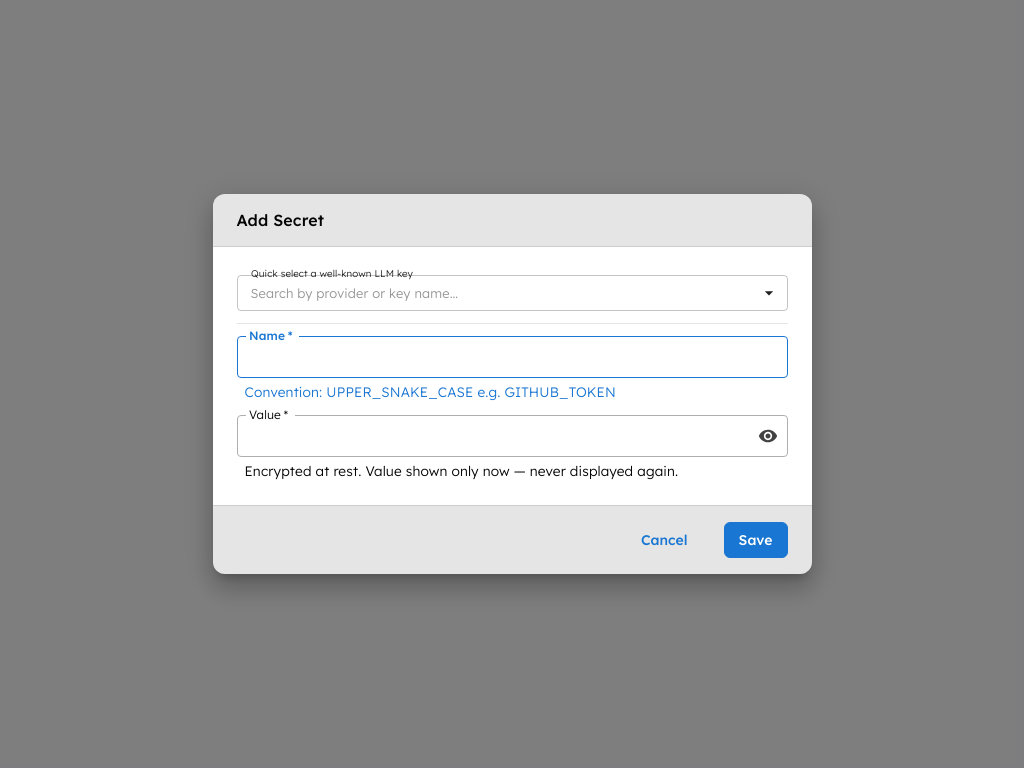
Test case: AddEditSecretDialog — add mode › rejects blank value
The image size is (1024, 768).
Step 1. Type "GITHUB_TOKEN" into the field labelled "Name *" → coordinates (512, 357), box [236,336,788,378]
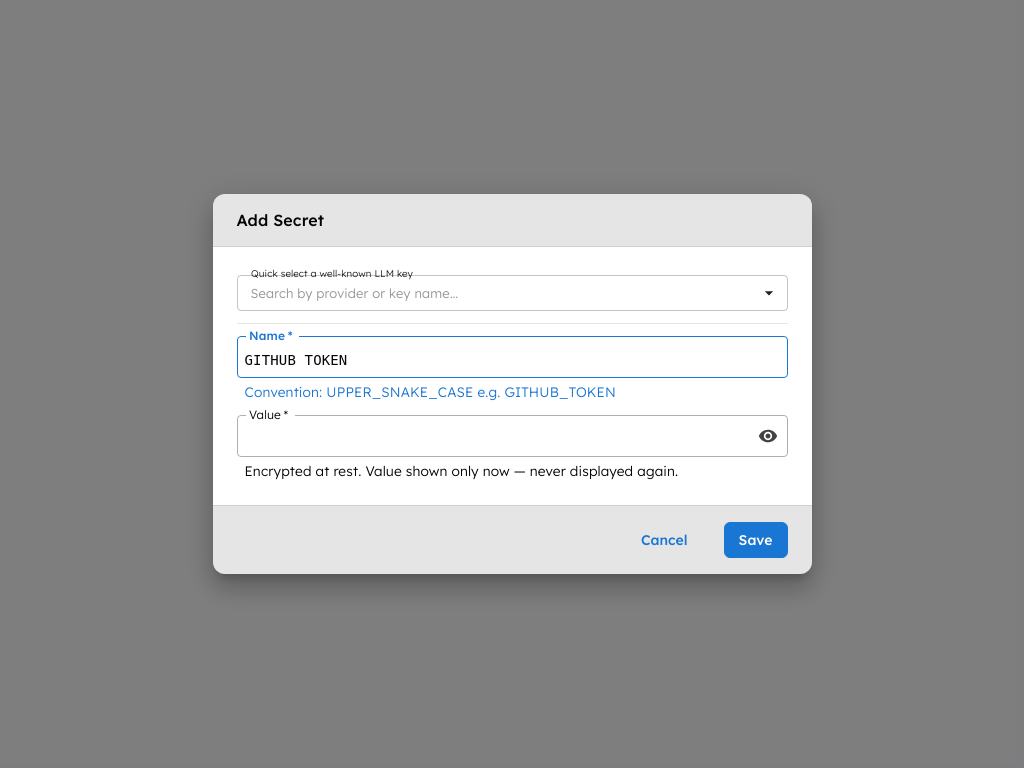
Step 2. Click the button "Save" → coordinates (756, 540), box [724,522,788,558]
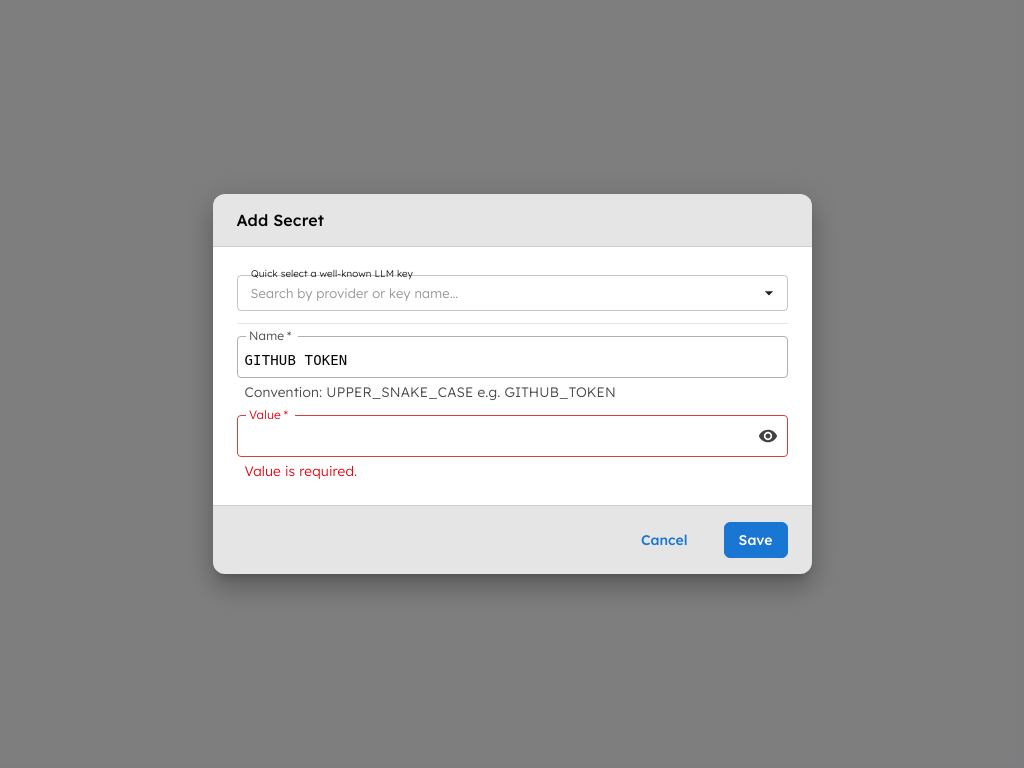
Now the text "Value is required." is shown, box [244,462,357,479]
